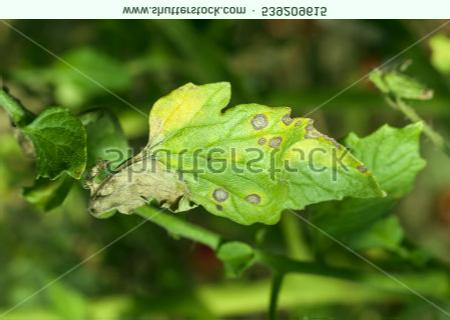Tomato leaf late blight: (77, 82, 395, 231)
